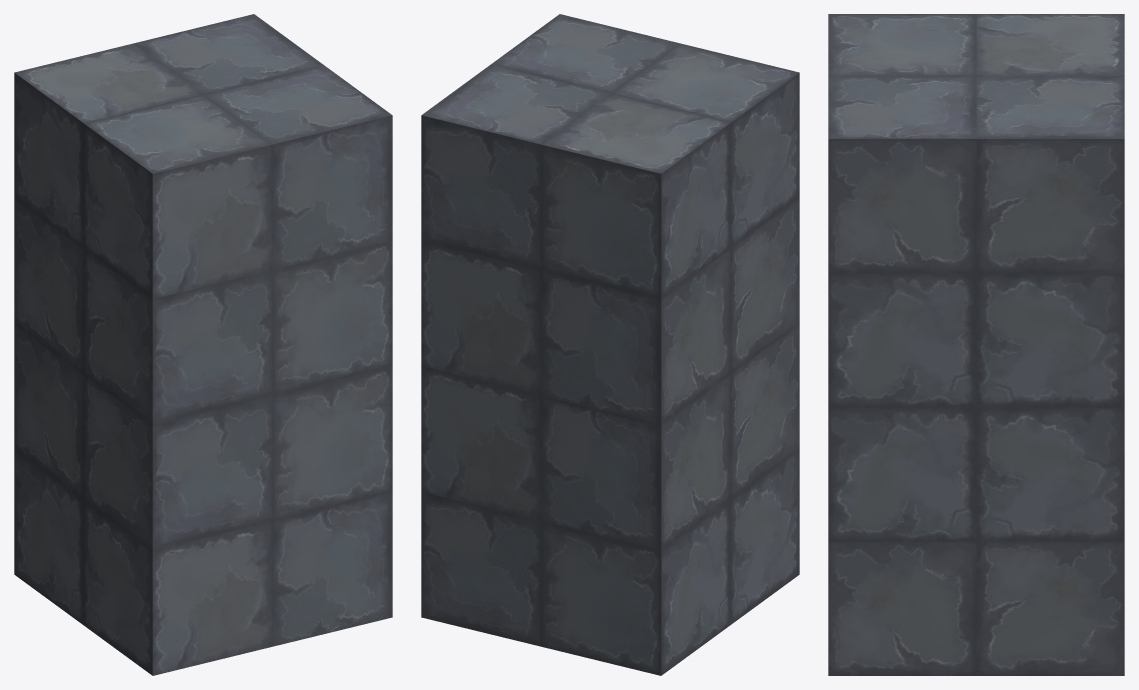
The model's file is Castle Block 2x2x4.fbx.
The picture shows the model from 3 angles, left to right: view 1: azimuth 30°, elevation 25°; view 2: azimuth 150°, elevation 25°; view 3: azimuth 270°, elevation 25°; orthographic projection. The views are drawn at different scales.
Visible parts, largest first — view 1: Castle Block 2x2x4; view 2: Castle Block 2x2x4; view 3: Castle Block 2x2x4.
Boxes of the visible parts, x1,y1,x2,y2 form: Castle Block 2x2x4: (14, 14, 392, 675); Castle Block 2x2x4: (421, 14, 799, 675); Castle Block 2x2x4: (828, 14, 1124, 675).
Size of the model in its own units: 1.5 by 3 by 1.5.
